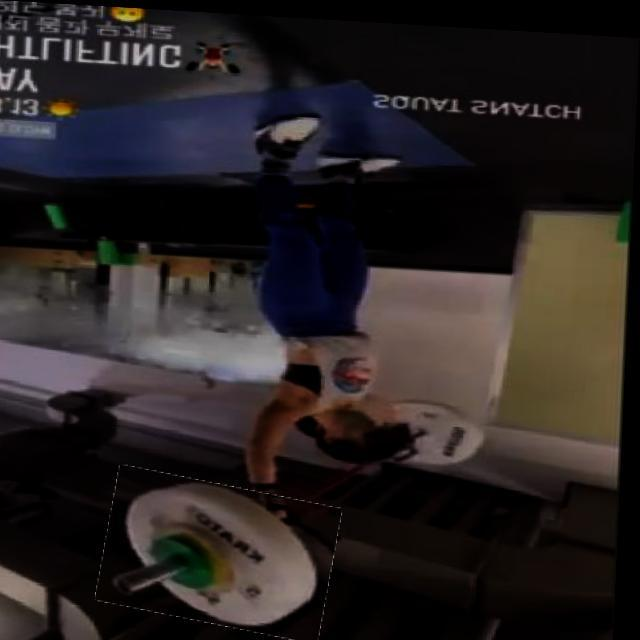barbell: (105, 470, 345, 634)
